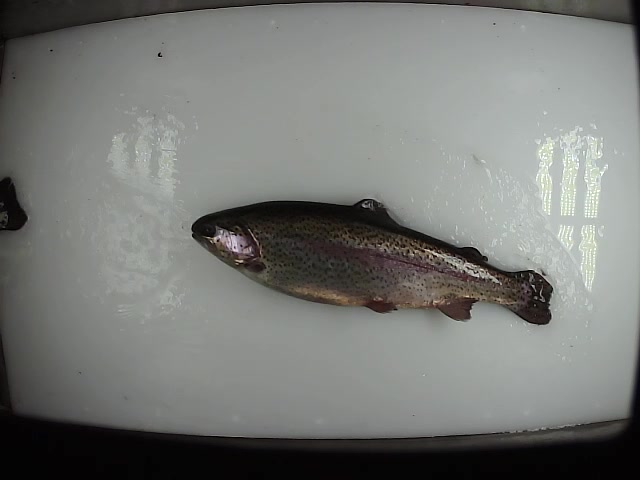fish: (186, 193, 555, 330)
